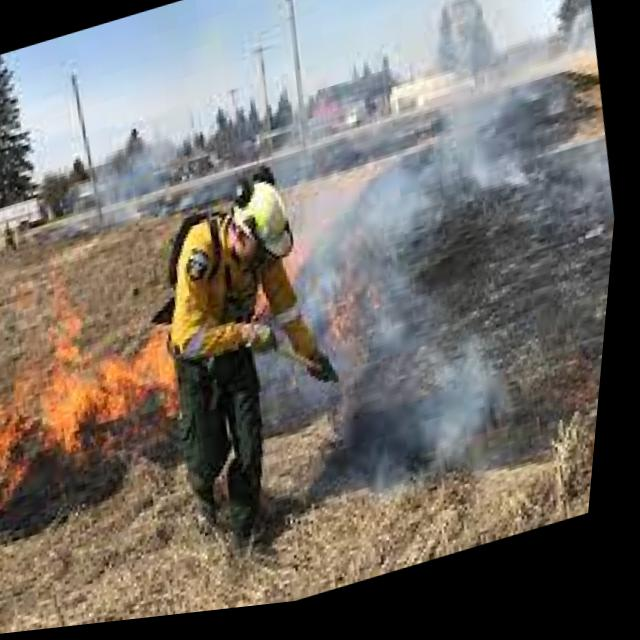Fire: (0, 297, 208, 527), (317, 274, 413, 410)
